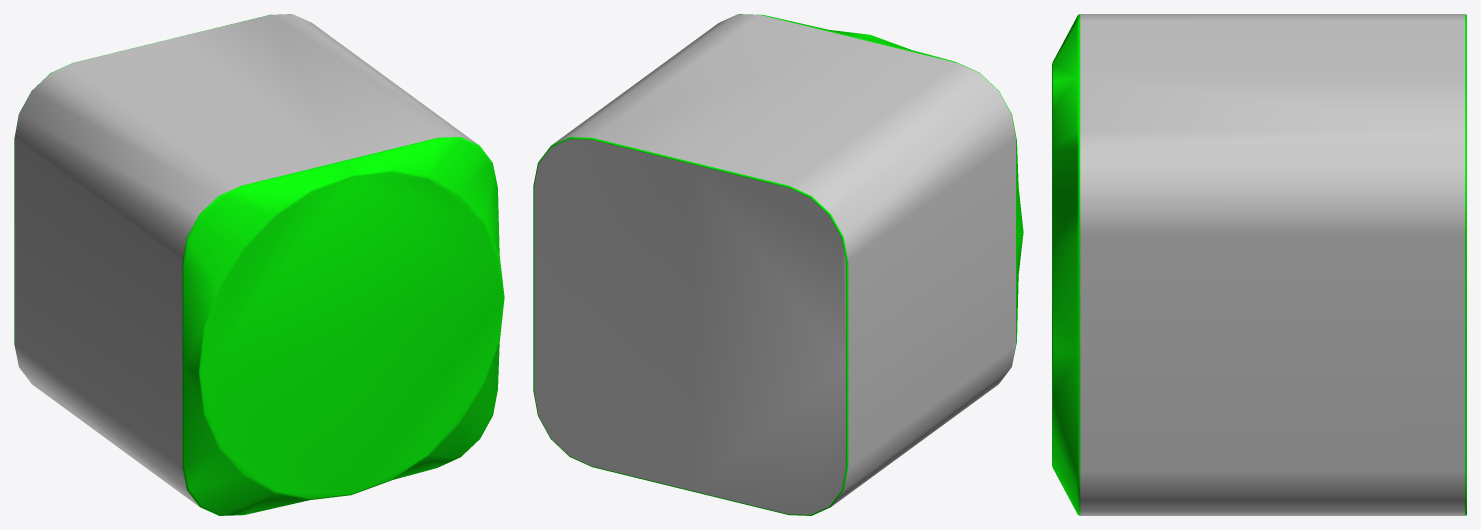
3 renders of one model, left to right at view 1: azimuth 30°, elevation 25°; view 2: azimuth 150°, elevation 25°; view 3: azimuth 270°, elevation 25°, orthographic. The views are drawn at different scales.
Visible parts, largest first — view 1: center_F; view 2: center_F; view 3: center_F.
Boxes of the visible parts, left/top/right/bottom form: center_F: left=14, top=14, right=504, bottom=515; center_F: left=533, top=14, right=1023, bottom=515; center_F: left=1052, top=14, right=1466, bottom=515.
Size of the model in its own units: 0.2003 by 0.2003 by 0.1996.
Materials: 1 (1 with a texture image).
